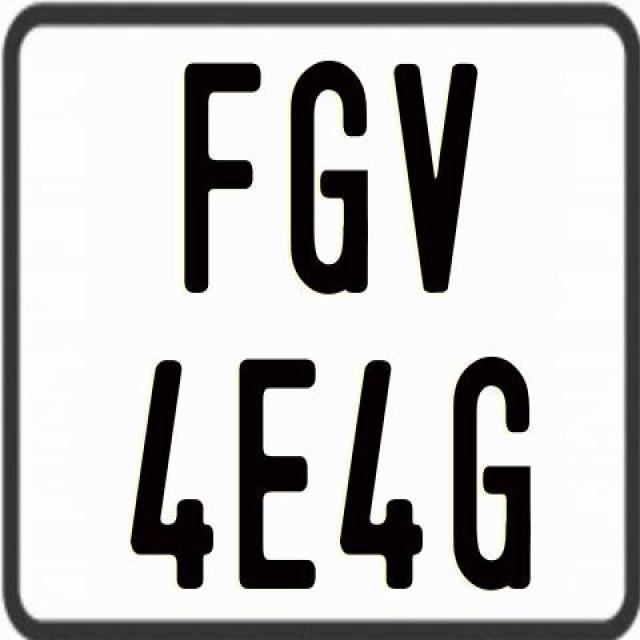4: (336, 357, 424, 596), (126, 360, 212, 590)
E: (234, 354, 314, 586)
F: (182, 59, 260, 290)
G: (449, 354, 532, 596), (286, 59, 369, 294)
V: (391, 59, 482, 298)
